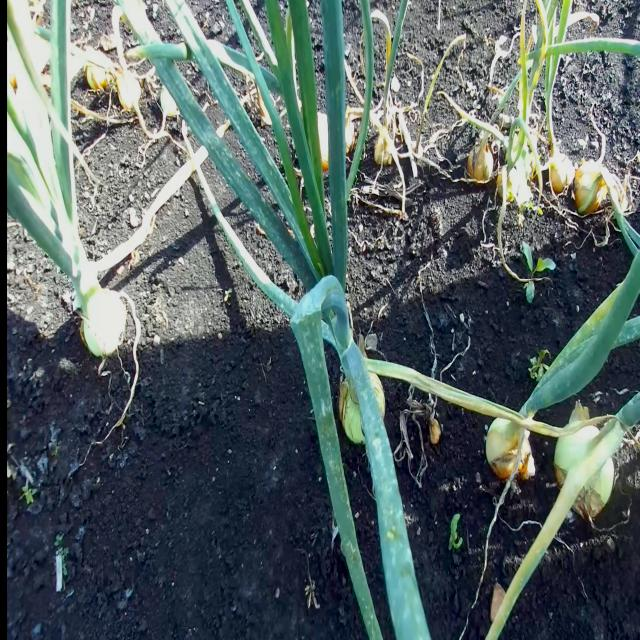onion: (554, 422, 615, 524), (338, 370, 386, 446), (486, 414, 534, 482), (573, 164, 607, 217), (467, 137, 494, 183)
